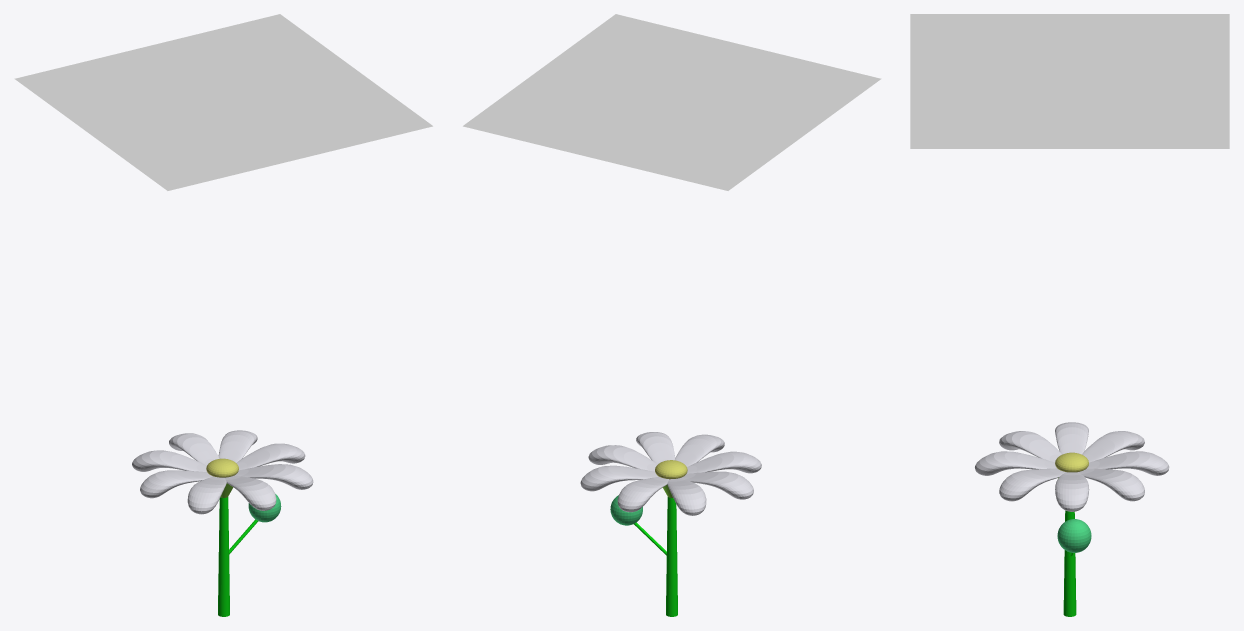
The model's file is white_daisy.fbx.
3 views of the same model, side by side, from view 1: azimuth 30°, elevation 25°; view 2: azimuth 150°, elevation 25°; view 3: azimuth 270°, elevation 25° (orthographic). The views are drawn at different scales.
Visible parts, largest first — view 1: Plane, Sphere.008, Cylinder; view 2: Plane, Sphere.008, Cylinder; view 3: Plane, Sphere.008, Sphere, Cylinder, Sphere.001.
Part boxes in pixels (x1,y1,x2,y2): Plane: [14, 14, 432, 190]; Sphere.008: [132, 430, 313, 514]; Cylinder: [218, 497, 229, 616]; Plane: [463, 14, 881, 190]; Sphere.008: [580, 432, 761, 515]; Cylinder: [666, 497, 677, 616]; Plane: [910, 14, 1229, 148]; Sphere.008: [975, 422, 1169, 511]; Sphere: [1057, 519, 1091, 552]; Cylinder: [1063, 510, 1076, 616]; Sphere.001: [1055, 452, 1088, 472].
Size of the model in its own units: 1875 by 3451 by 1875.
